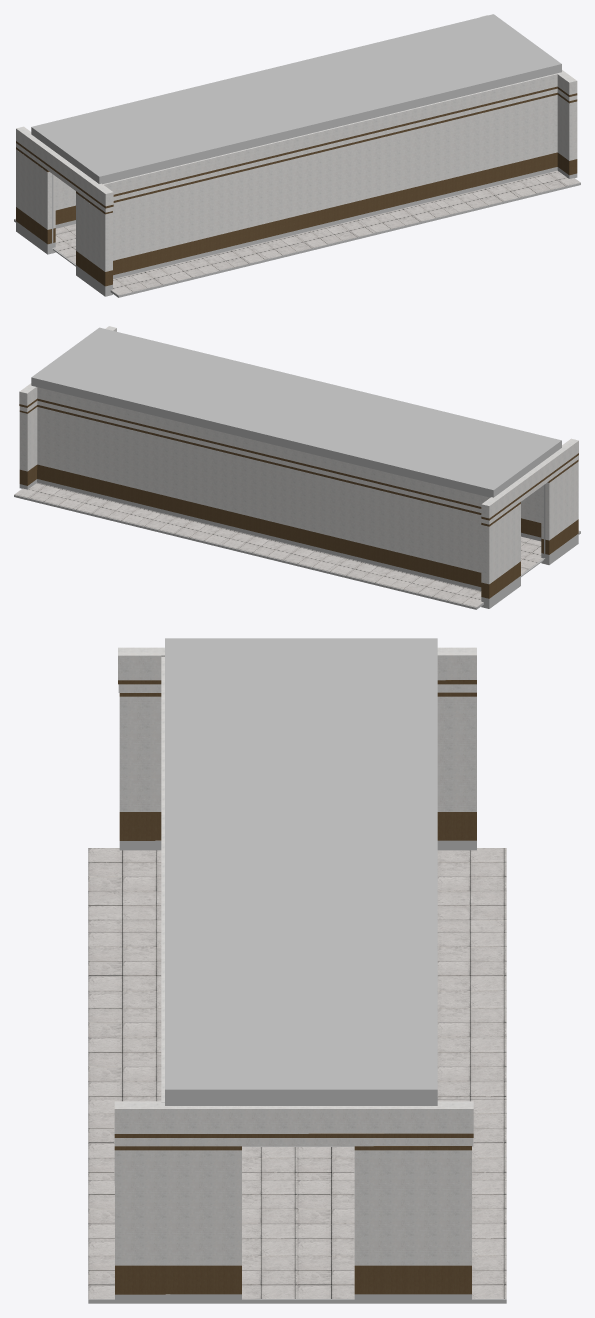
The model's file is scp_room_hallwayalt.dae.
3 views of the same model, one above another, from view 1: azimuth 30°, elevation 25°; view 2: azimuth 150°, elevation 25°; view 3: azimuth 270°, elevation 25° (orthographic). The views are drawn at different scales.
Visible parts, largest first — view 1: SCP Room 5.004, SCP Room 5.003, SCP Room 5.005, SCP Room 5.002, SCP Room 5.006, SCP Room 5.001; view 2: SCP Room 5.004, SCP Room 5.003, SCP Room 5.005, SCP Room 5.002, SCP Room 5.006, SCP Room 5.001; view 3: SCP Room 5.003, SCP Room 5.002, SCP Room 5.004, SCP Room 5.005, SCP Room 5.006, SCP Room 5.001.
Boxes of the visible parts, x1,y1,x2,y2 form: SCP Room 5.004: (16, 15, 577, 271); SCP Room 5.003: (31, 14, 561, 184); SCP Room 5.005: (16, 86, 577, 286); SCP Room 5.002: (14, 170, 580, 295); SCP Room 5.006: (16, 167, 577, 296); SCP Room 5.001: (14, 183, 580, 297); SCP Room 5.004: (19, 326, 578, 584); SCP Room 5.003: (31, 327, 561, 497); SCP Room 5.005: (19, 398, 578, 598); SCP Room 5.002: (14, 482, 580, 607); SCP Room 5.006: (19, 479, 578, 608); SCP Room 5.001: (14, 495, 580, 609); SCP Room 5.003: (165, 638, 437, 1105); SCP Room 5.002: (88, 848, 506, 1299); SCP Room 5.004: (114, 647, 476, 1265); SCP Room 5.005: (114, 680, 476, 1294); SCP Room 5.006: (115, 840, 476, 1302); SCP Room 5.001: (88, 1299, 506, 1303).
Bounding box in the file's own units: 47.85 × 18.4 × 10.72.
